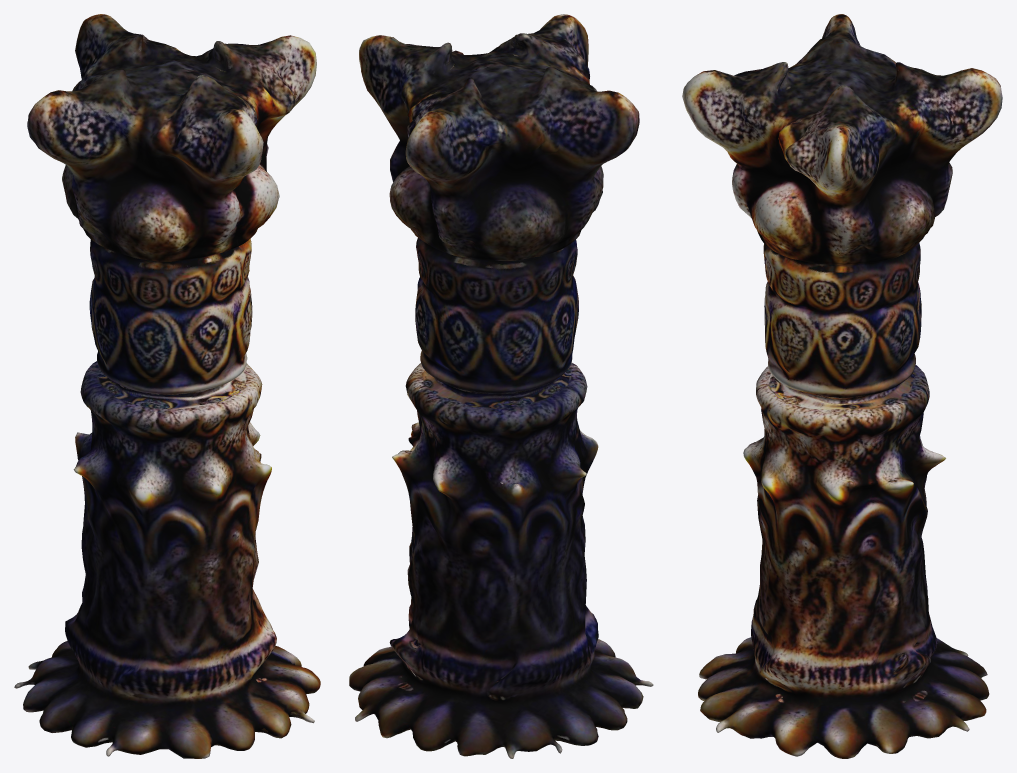
The model's file is e42dbff248a0_Adorable_Pillar_Pos.fbx.
The picture shows the model from 3 angles, left to right: view 1: azimuth 30°, elevation 25°; view 2: azimuth 150°, elevation 25°; view 3: azimuth 270°, elevation 25°; orthographic projection.
Visible parts, largest first — view 1: mesh; view 2: mesh; view 3: mesh.
Boxes of the visible parts, bbox=[...] form: mesh: bbox=[14, 14, 320, 758]; mesh: bbox=[349, 14, 653, 758]; mesh: bbox=[682, 14, 1002, 758].
Bounding box in the file's own units: 45.2 × 99.54 × 45.32.
